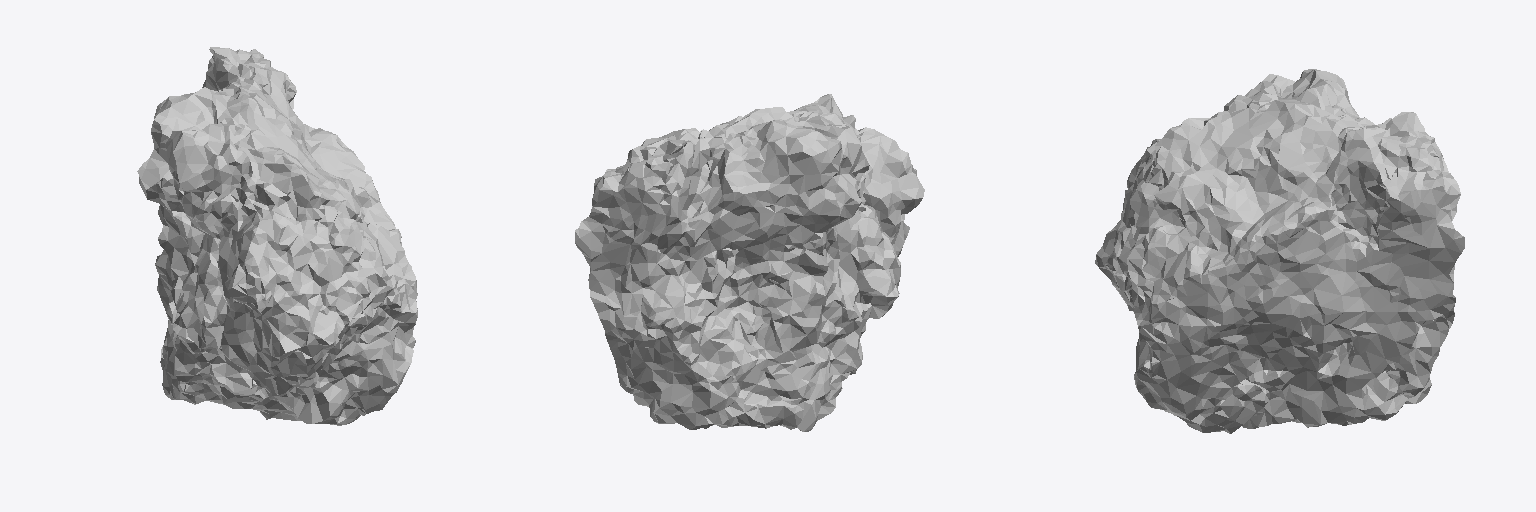
Rendered from rock3.obj.
3 views of the same model, side by side, from view 1: azimuth 30°, elevation 25°; view 2: azimuth 150°, elevation 25°; view 3: azimuth 270°, elevation 25° (orthographic).
Bounding box in the file's own units: 14.41 × 20.81 × 21.97.